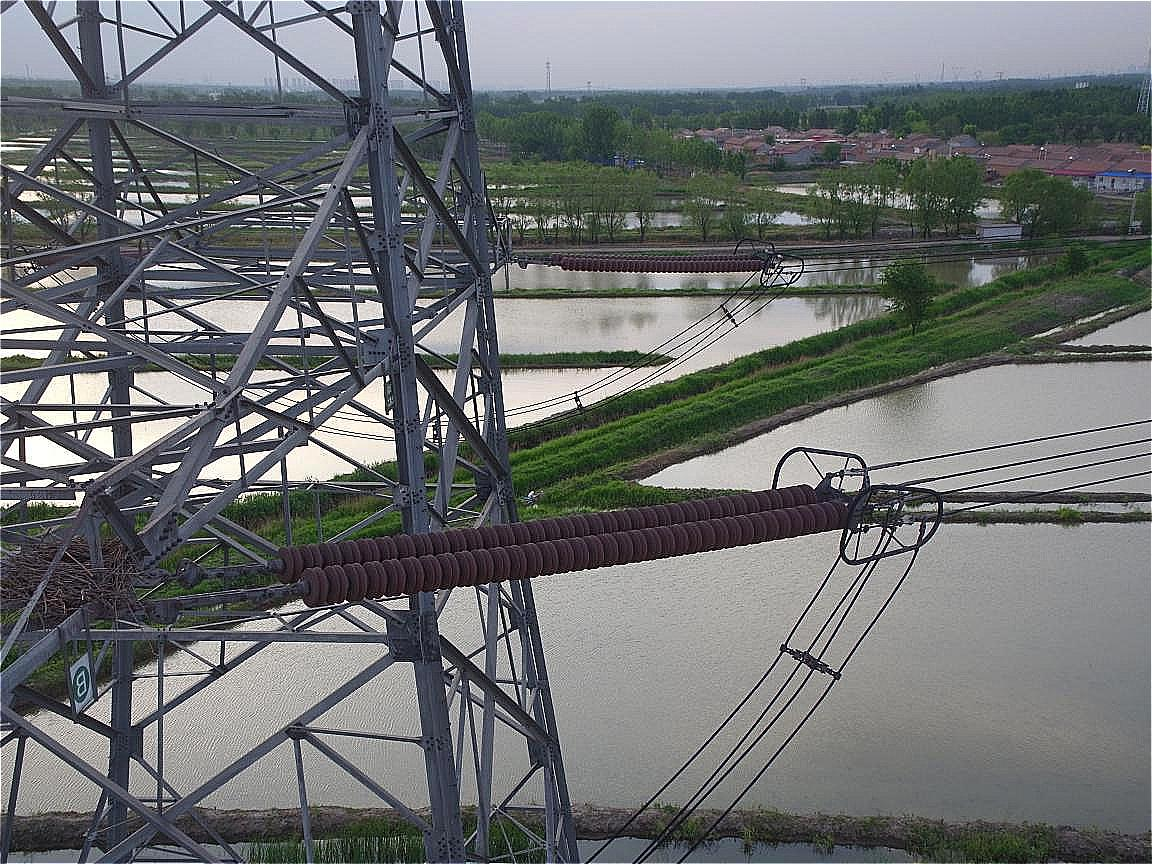insultor2: (278, 485, 852, 607), (553, 253, 766, 273)
